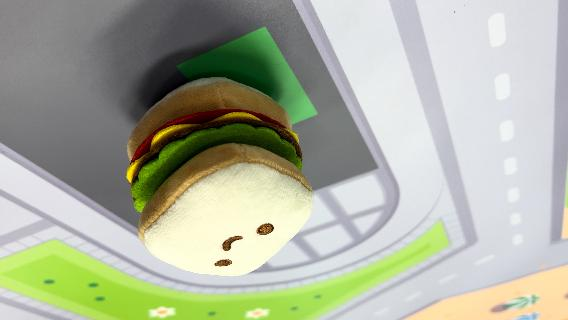sandwich: (124, 75, 316, 278)
